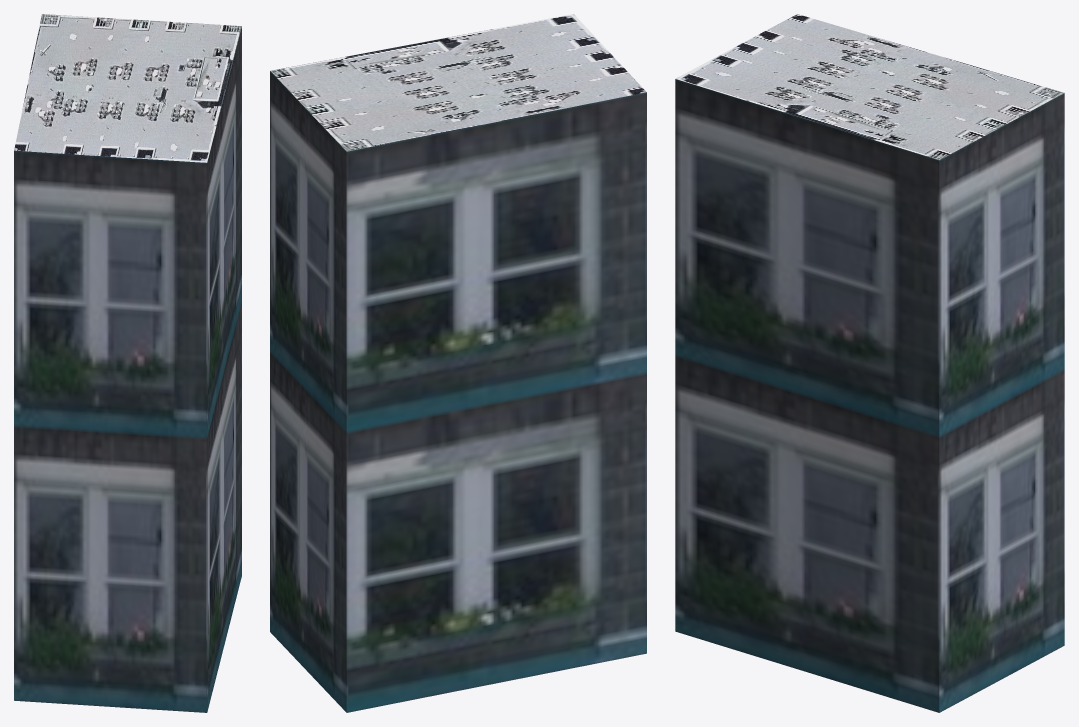
The model's file is ResTex__4823.fbx.
3 renders of one model, left to right at view 1: azimuth 30°, elevation 25°; view 2: azimuth 150°, elevation 25°; view 3: azimuth 270°, elevation 25°, orthographic. The views are drawn at different scales.
Parts seen in each view (by area): view 1: CityEngineMaterial_11_m, CityEngineMaterial_m; view 2: CityEngineMaterial_11_m, CityEngineMaterial_m; view 3: CityEngineMaterial_11_m, CityEngineMaterial_m.
Part boxes in pixels (bbox=[...]): CityEngineMaterial_11_m: bbox=[14, 26, 241, 712]; CityEngineMaterial_m: bbox=[14, 14, 241, 162]; CityEngineMaterial_11_m: bbox=[270, 71, 646, 712]; CityEngineMaterial_m: bbox=[270, 14, 646, 151]; CityEngineMaterial_11_m: bbox=[675, 79, 1064, 712]; CityEngineMaterial_m: bbox=[675, 14, 1064, 160].
Size of the model in its own units: 3.41 by 6 by 3.83.
Materials: 2 (2 with a texture image).
